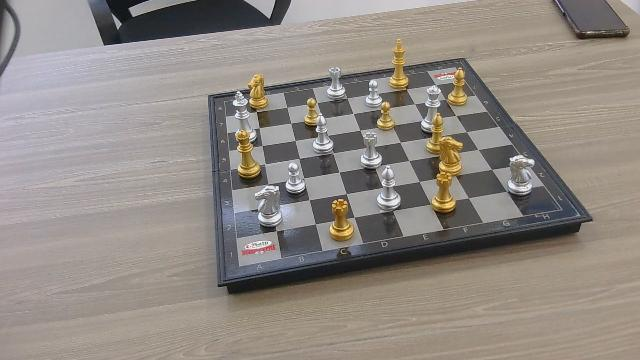black_bishop: (450, 65, 467, 106), (430, 112, 445, 137)
black_king: (389, 36, 410, 89)
black_knight: (247, 73, 270, 111), (441, 137, 463, 173)
black_pawn: (376, 100, 395, 131), (303, 97, 319, 127)
black_queen: (235, 130, 262, 178)
black_rook: (329, 198, 357, 242), (433, 173, 455, 211)
white_bishop: (377, 165, 401, 212), (315, 113, 335, 155)
white_king: (232, 91, 250, 129)
white_knight: (253, 183, 287, 227), (508, 154, 536, 194)
white_pawn: (285, 161, 307, 195), (365, 79, 381, 108)
white_queen: (424, 85, 443, 112)
white_rook: (360, 129, 382, 165), (328, 63, 347, 99)
